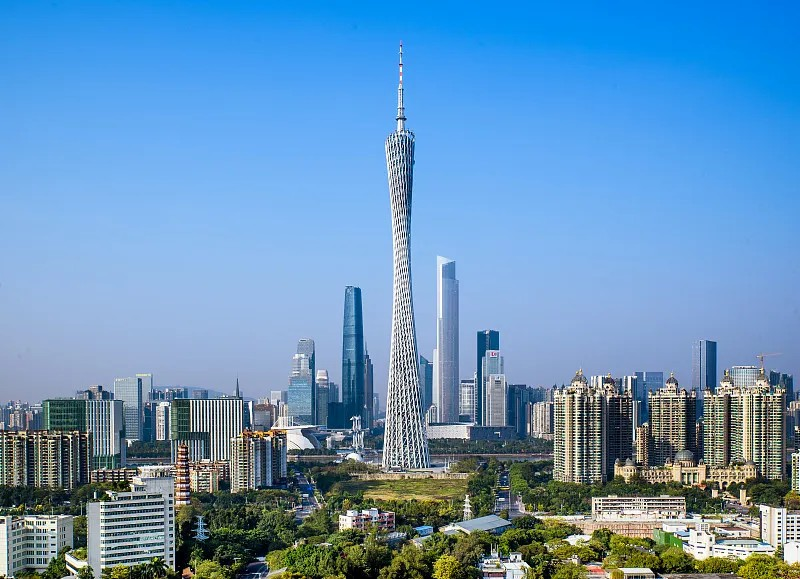Canton: (374, 38, 433, 471)
